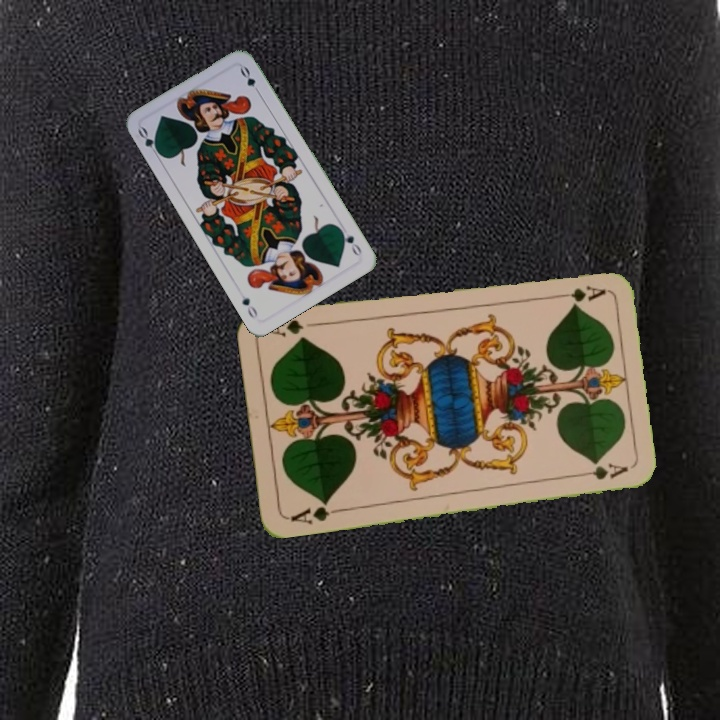GA: (286, 497, 344, 527), (549, 282, 608, 304)
GO: (134, 123, 164, 161), (335, 224, 364, 259)
